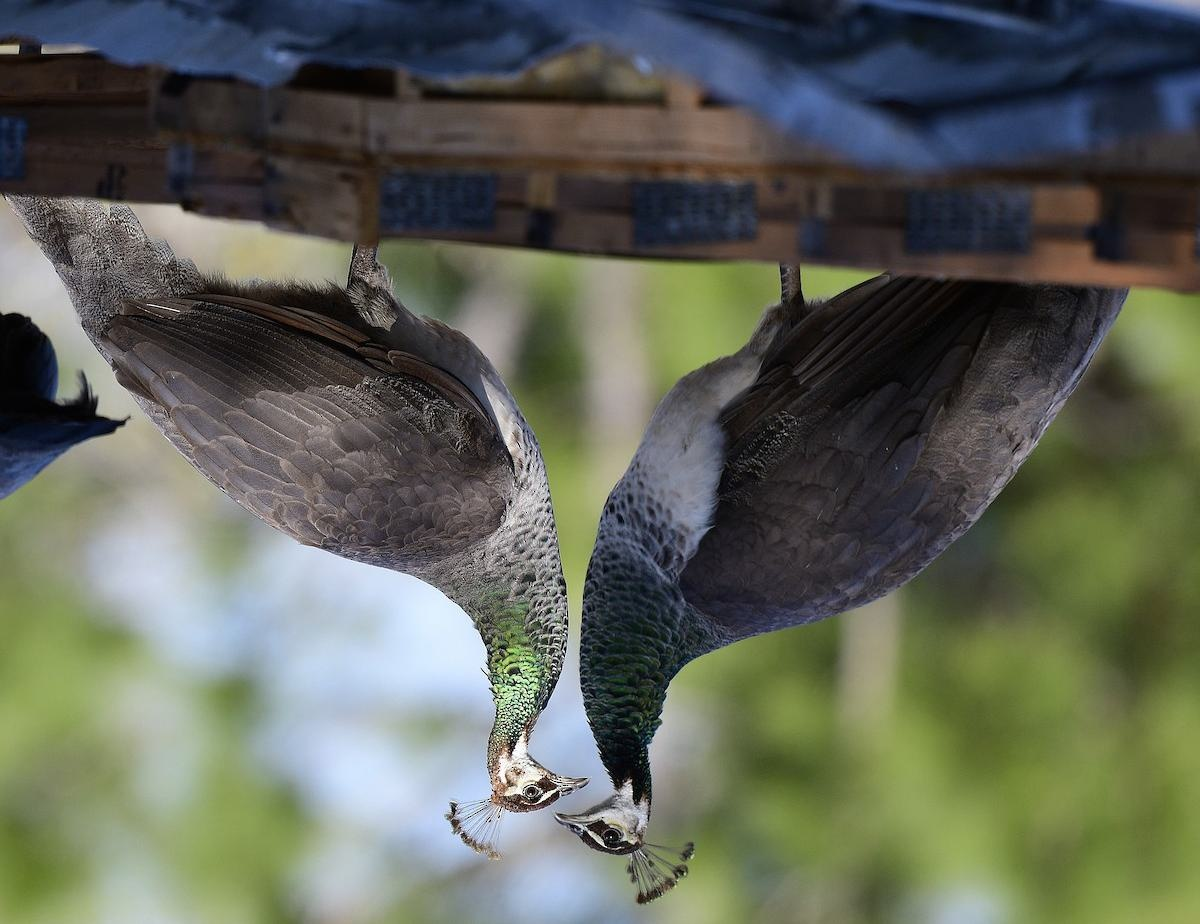peacock: (573, 247, 1171, 895), (139, 239, 587, 817)
